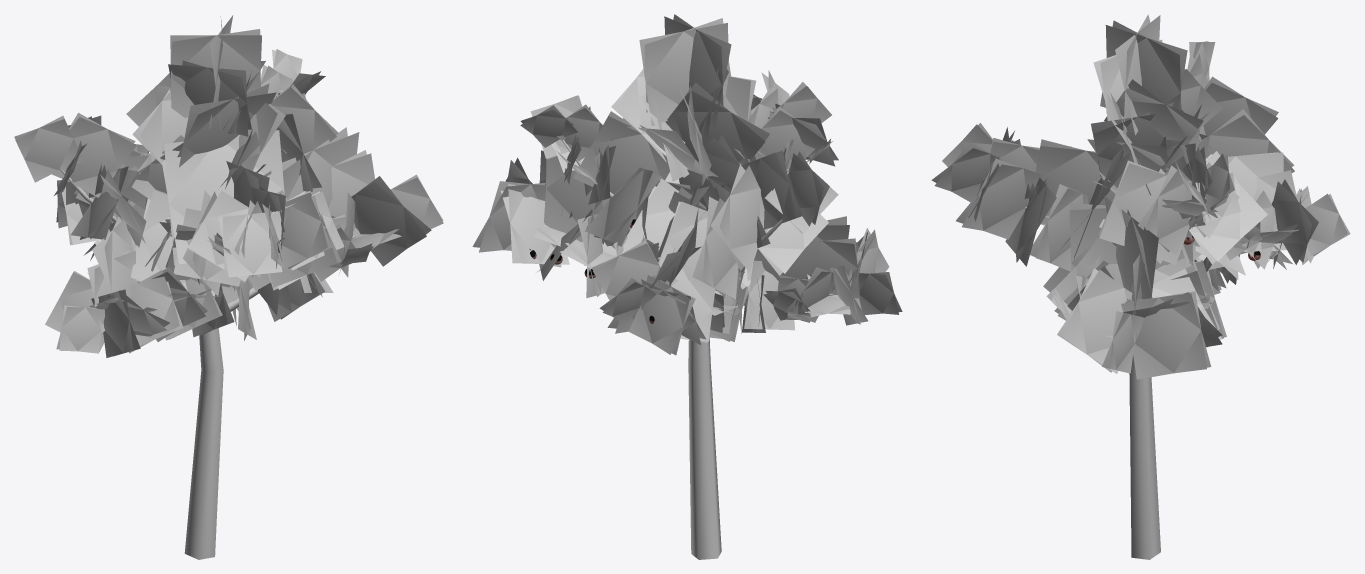
The model's file is apple_tree.fbx.
The picture shows the model from 3 angles, left to right: view 1: azimuth 30°, elevation 25°; view 2: azimuth 150°, elevation 25°; view 3: azimuth 270°, elevation 25°; orthographic projection.
Parts seen in each view (by area): view 1: apple_tree, Branch0015, Branch00122, Branch0019, Branch0054, Branch008, Branch0041, Branch0055, Branch009, Branch0016, Branch004, Branch0042 (+38 smaller); view 2: apple_tree, Branch00123, Branch0011, Branch0049, Branch00124, Branch0092, Branch0031, Branch004, Branch00122, Branch00113, Branch0068, Branch008 (+39 smaller); view 3: Branch0020, apple_tree, Branch0019, Branch0037, Branch00123, Branch0063, Branch0034, Branch00113, Branch0038, Branch0059, Branch0068, Branch0053 (+30 smaller).
Part boxes in pixels (box(x1,y1,x2,y2)): apple_tree: box(184, 328, 223, 559); Branch0015: box(162, 130, 284, 265); Branch00122: box(170, 29, 261, 117); Branch0019: box(351, 176, 431, 266); Branch0054: box(177, 83, 276, 167); Branch008: box(52, 112, 136, 197); Branch0041: box(218, 211, 282, 277); Branch0055: box(168, 60, 251, 136); Branch009: box(14, 116, 83, 182); Branch0016: box(277, 195, 332, 268); Branch004: box(282, 127, 359, 207); Branch0042: box(130, 190, 215, 297); apple_tree: box(688, 338, 721, 559); Branch00123: box(639, 18, 731, 125); Branch0011: box(573, 111, 669, 212); Branch0049: box(710, 164, 768, 272); Branch00124: box(665, 82, 769, 162); Branch0092: box(628, 275, 695, 355); Branch0031: box(500, 184, 569, 267); Branch004: box(544, 156, 615, 248); Branch00122: box(664, 14, 731, 130); Branch00113: box(585, 167, 661, 246); Branch0068: box(692, 196, 738, 299); Branch008: box(738, 150, 803, 229); Branch0020: box(1121, 291, 1211, 379); apple_tree: box(1129, 355, 1160, 559); Branch0019: box(1057, 268, 1141, 373); Branch0037: box(956, 158, 1043, 239); Branch00123: box(1100, 20, 1187, 135); Branch0063: box(1098, 160, 1189, 264); Branch0034: box(1035, 139, 1119, 224); Branch00113: box(1189, 151, 1267, 264); Branch0038: box(1030, 184, 1088, 271); Branch0059: box(1138, 165, 1192, 255); Branch0068: box(1197, 109, 1294, 172); Branch0053: box(1104, 79, 1203, 149).
Size of the model in its own units: 419 by 531 by 380.
